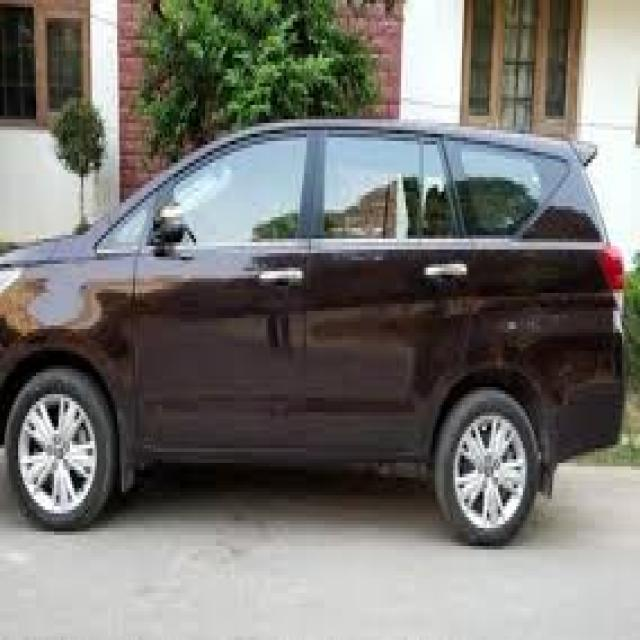light_vehicle: (0, 119, 624, 549)
